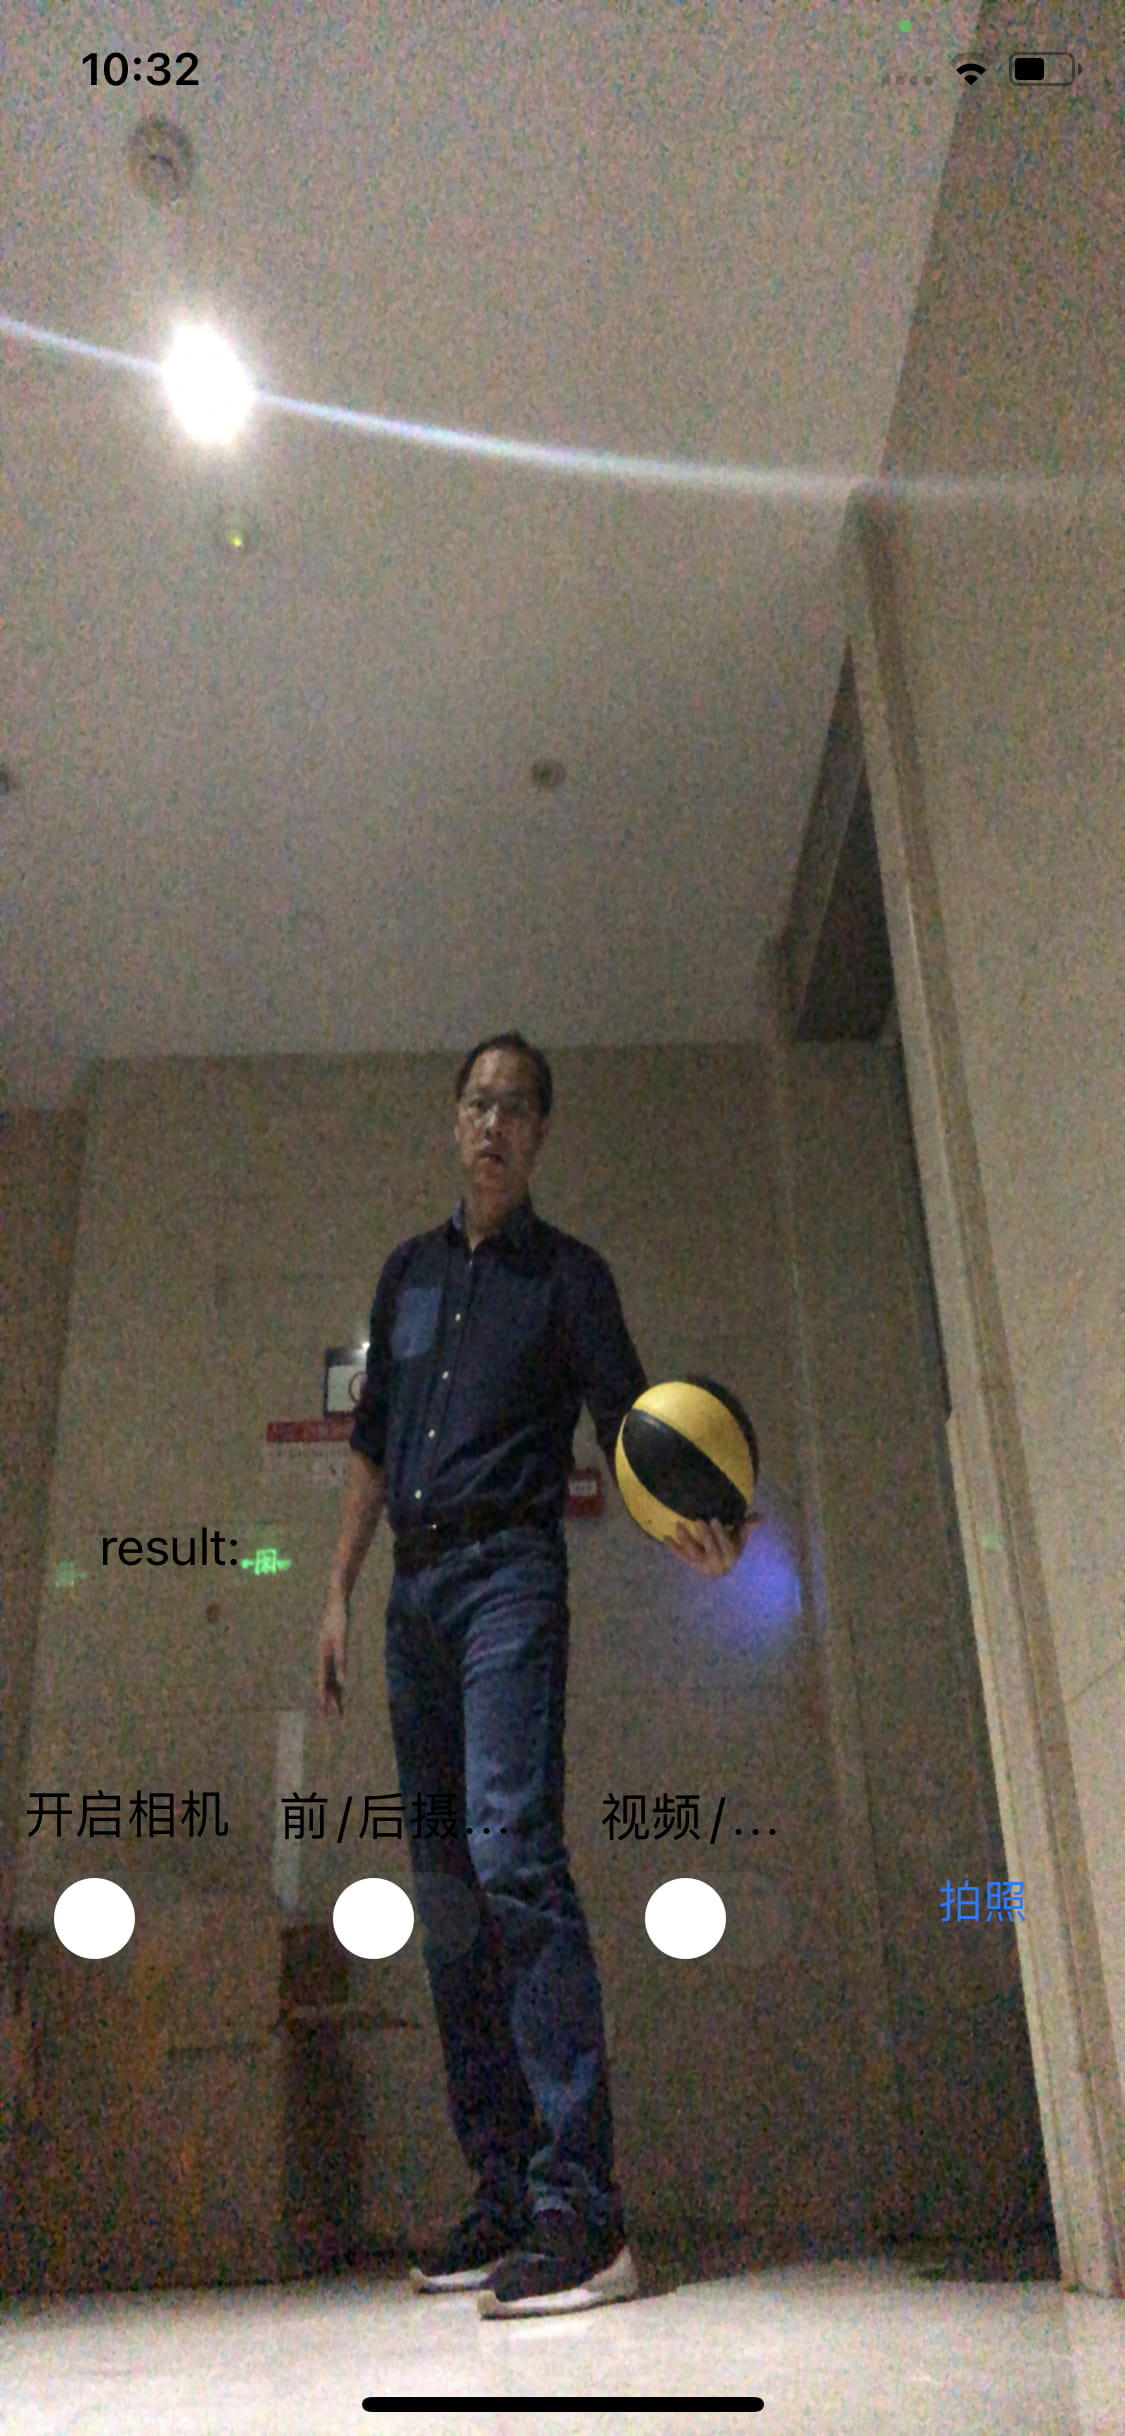ball: (609, 1375, 758, 1552)
